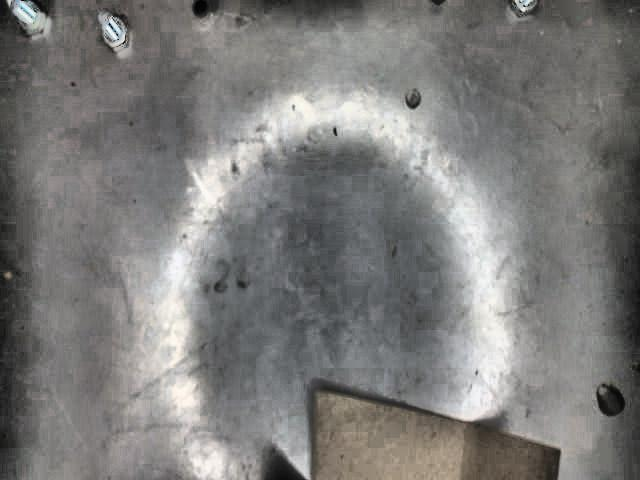Paper: (309, 389, 561, 480)
